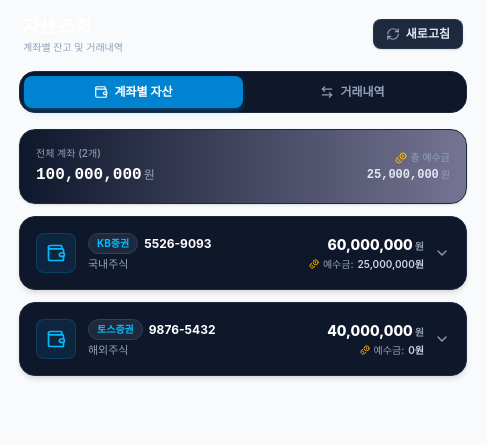
Test: MobileAssetsPage › 새로고침 버튼 클릭 시 시세 및 거래내역을 다시 조회해야 한다
Click the button "새로고침" at (418, 34), box [373, 18, 463, 48]
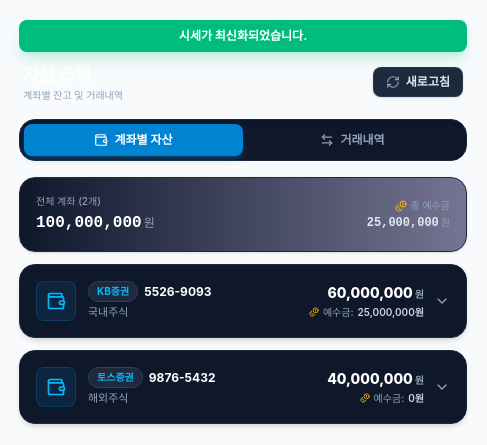
expect the text "시세가 최신화되었습니다." is shown: met, box [19, 20, 467, 52]
